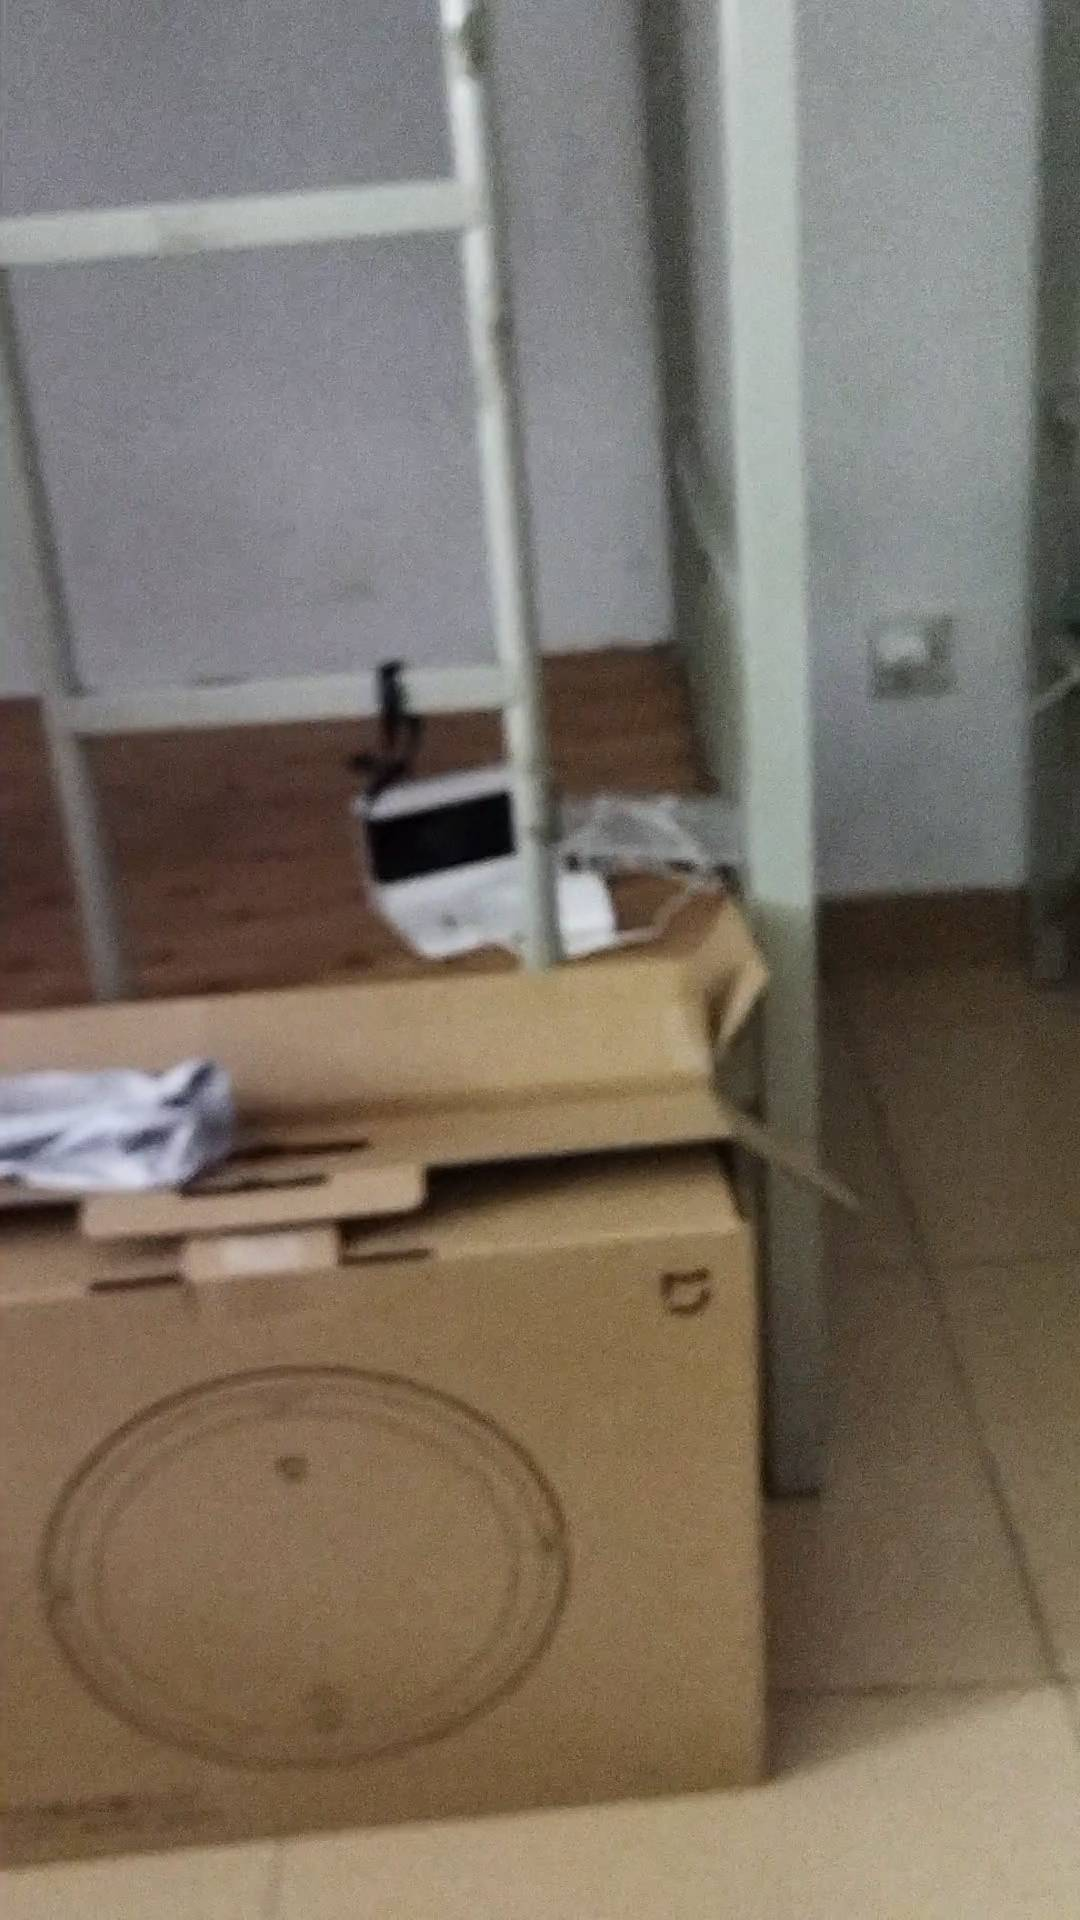recharge seat: (353, 761, 513, 964)
